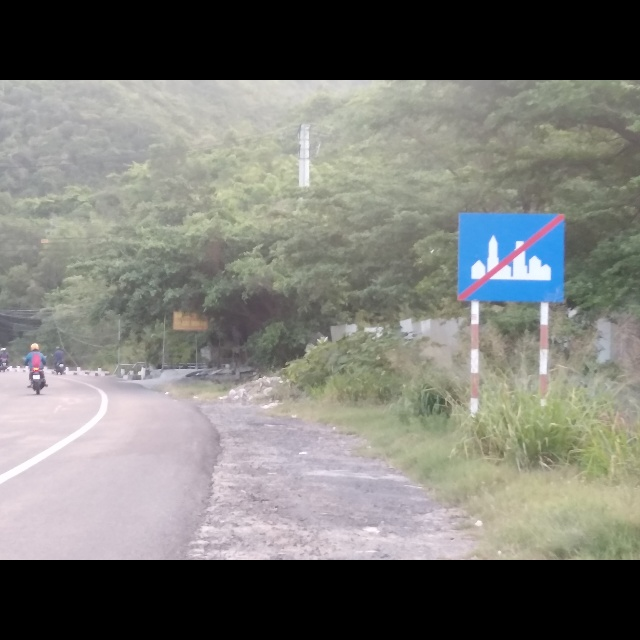Hết khu đông dân cư: (457, 211, 566, 307)
